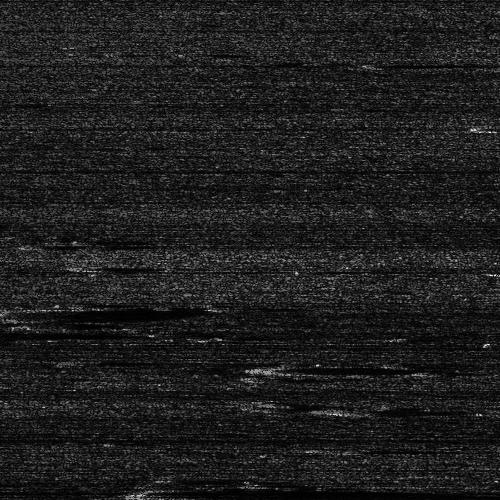rock: (0, 301, 124, 322), (109, 481, 202, 500), (201, 361, 326, 374), (179, 489, 262, 500), (48, 357, 111, 362), (362, 62, 403, 67), (470, 123, 500, 128)
shadow: (156, 481, 476, 500), (20, 301, 193, 322), (264, 361, 432, 374), (0, 326, 106, 343), (221, 489, 332, 500), (383, 62, 485, 67), (80, 357, 171, 362), (0, 479, 59, 486)
